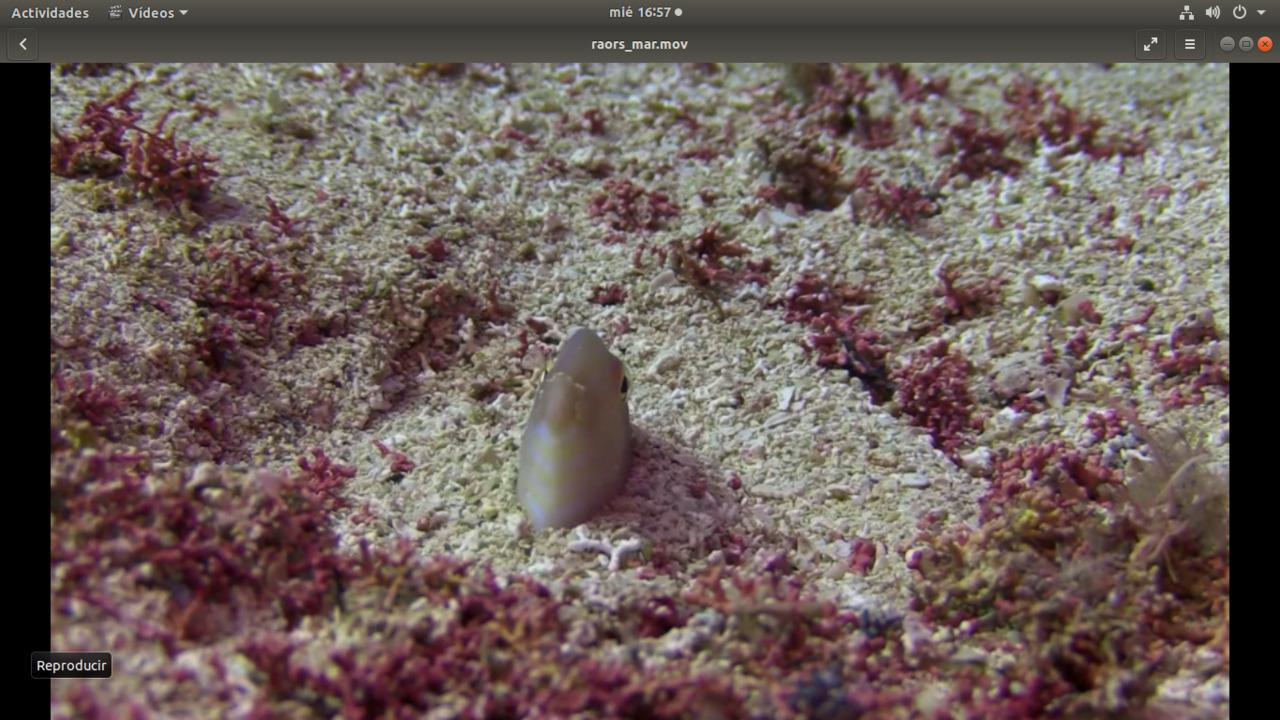raor: (503, 321, 647, 533)
